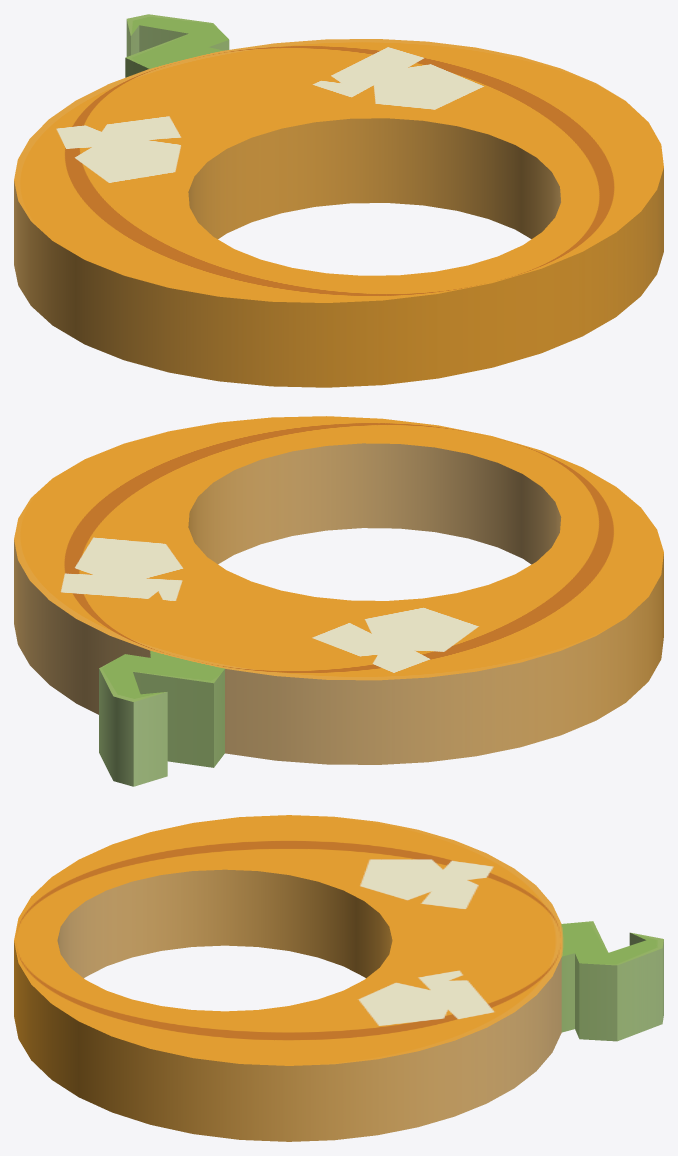
The model's file is pumpkin.FBX.
The picture shows the model from 3 angles, top to bottom: view 1: azimuth 30°, elevation 25°; view 2: azimuth 150°, elevation 25°; view 3: azimuth 270°, elevation 25°; orthographic projection. The views are drawn at different scales.
Parts seen in each view (by area): view 1: Pumpkin; view 2: Pumpkin; view 3: Pumpkin.
Boxes of the visible parts, <box> form: Pumpkin: <box>14,14,663,387</box>; Pumpkin: <box>14,416,663,786</box>; Pumpkin: <box>14,815,663,1141</box>.
Bounding box in the file's own units: 49.62 × 7 × 54.31.
Materials: 1 (1 with a texture image).
